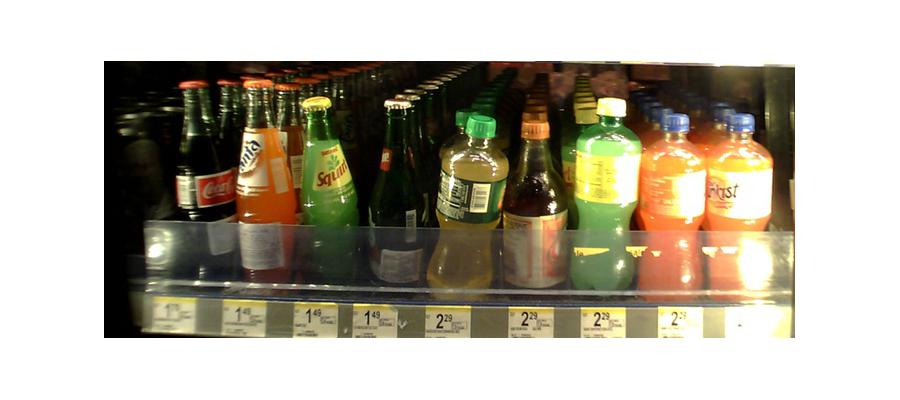bottle: (430, 113, 507, 296), (169, 75, 235, 288), (572, 96, 640, 294), (363, 89, 427, 291), (705, 110, 773, 294), (236, 82, 296, 289), (642, 108, 706, 296), (298, 95, 357, 287), (505, 114, 564, 296)
